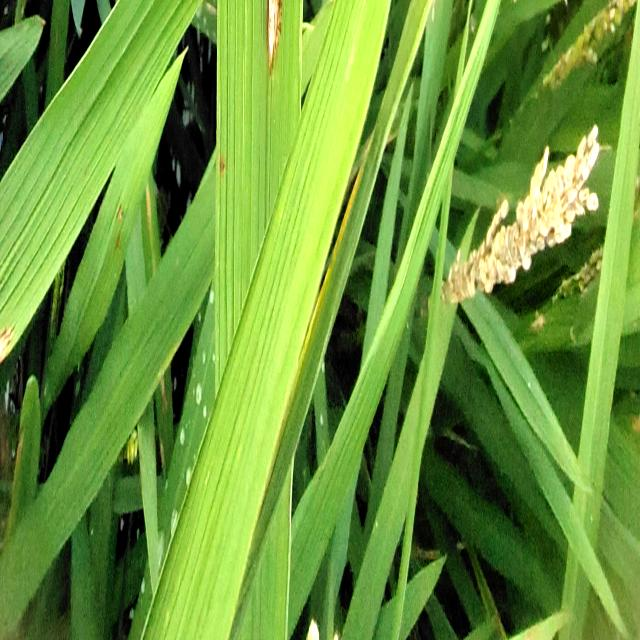LEAF BLAST: (267, 0, 282, 74)
